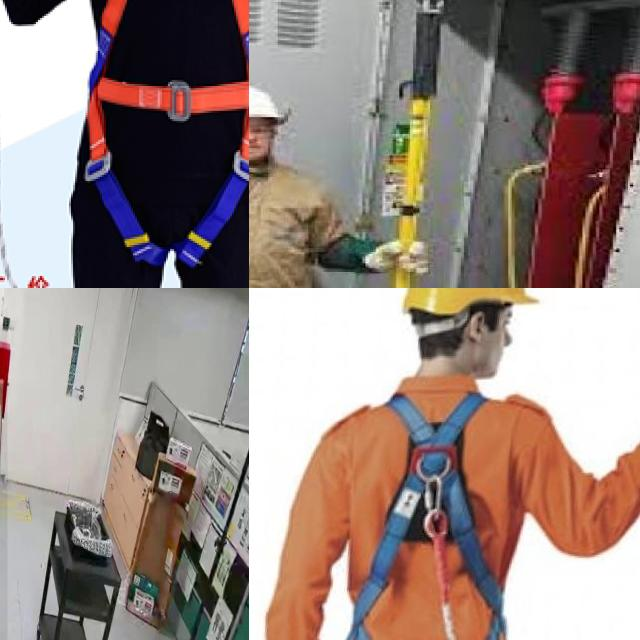Harness: (347, 392, 505, 640), (79, 0, 249, 224)
glasses: (249, 123, 279, 140)
hand_glove: (366, 233, 429, 276)
head_helmet: (249, 80, 287, 124)
person: (249, 68, 379, 288)
